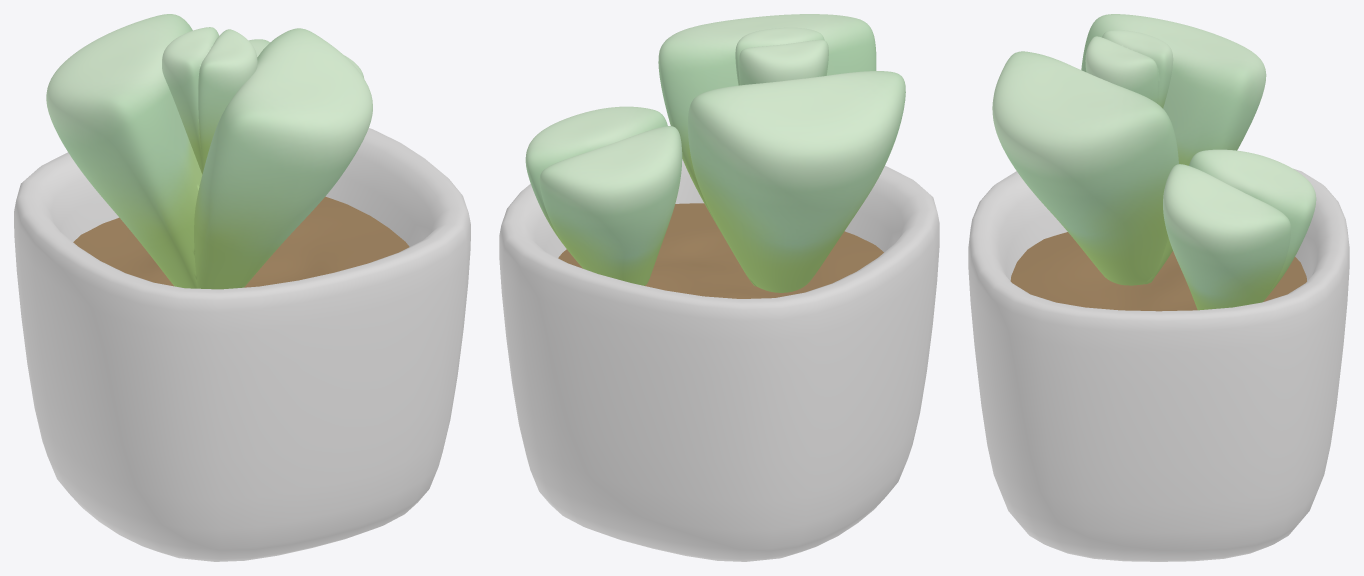
The model's file is plant-7.glb.
3 views of the same model, side by side, from view 1: azimuth 30°, elevation 25°; view 2: azimuth 150°, elevation 25°; view 3: azimuth 270°, elevation 25° (orthographic). The views are drawn at different scales.
Parts seen in each view (by area): view 1: Pot009, lithops2; view 2: Pot009, lithops2, lithops1; view 3: Pot009, lithops2, lithops1.
Boxes of the visible parts, x1=… form: Pot009: x1=14, y1=128, x2=470, y2=561; lithops2: x1=46, y1=14, x2=372, y2=289; Pot009: x1=499, y1=159, x2=939, y2=561; lithops2: x1=658, y1=14, x2=905, y2=292; lithops1: x1=525, y1=106, x2=682, y2=285; Pot009: x1=968, y1=168, x2=1349, y2=561; lithops2: x1=992, y1=14, x2=1266, y2=285; lithops1: x1=1163, y1=149, x2=1316, y2=310.
Bounding box in the file's own units: 0.5765 × 0.716 × 0.5514.
Materials: 3 (1 with a texture image).
